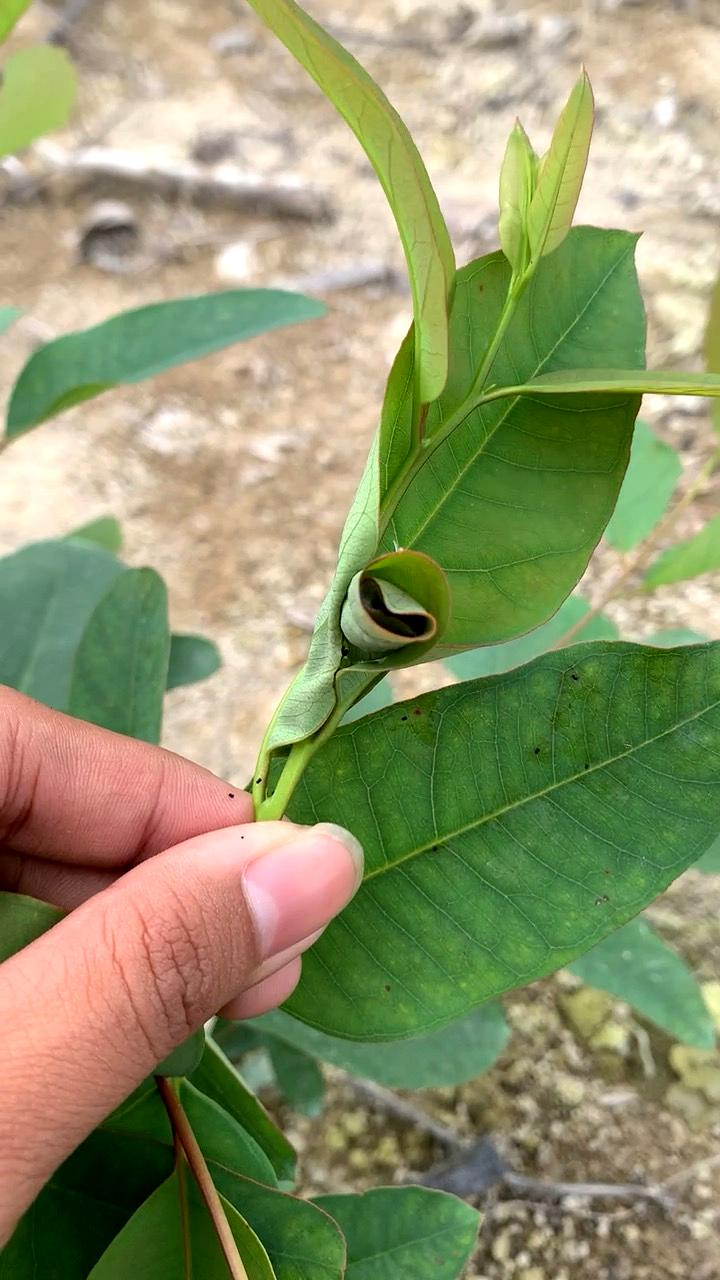Leaf Roller - Leaf: (293, 513, 471, 696)
